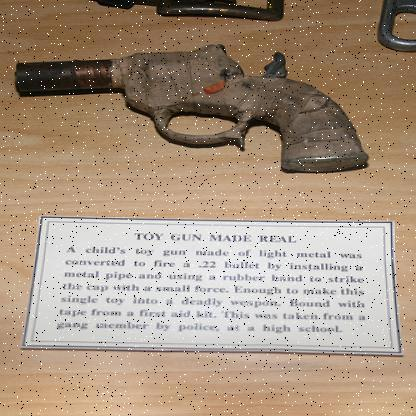pistol: (12, 44, 368, 173)
